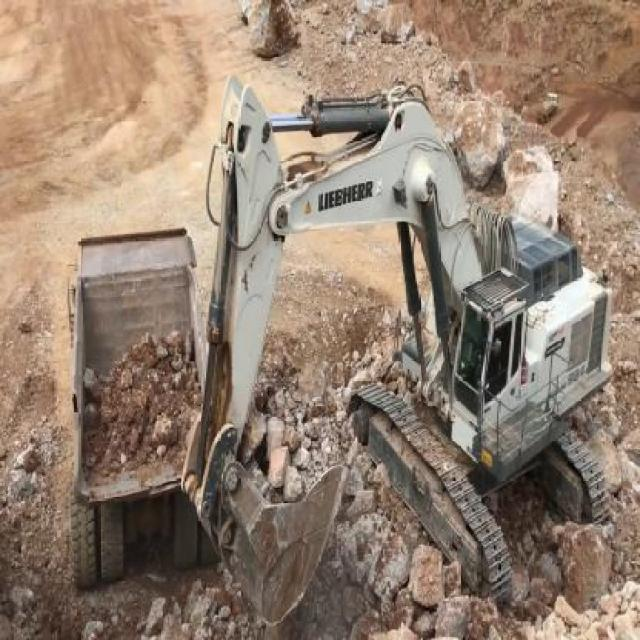Dump Truck: (63, 221, 208, 597)
Excavator: (178, 68, 613, 626)
